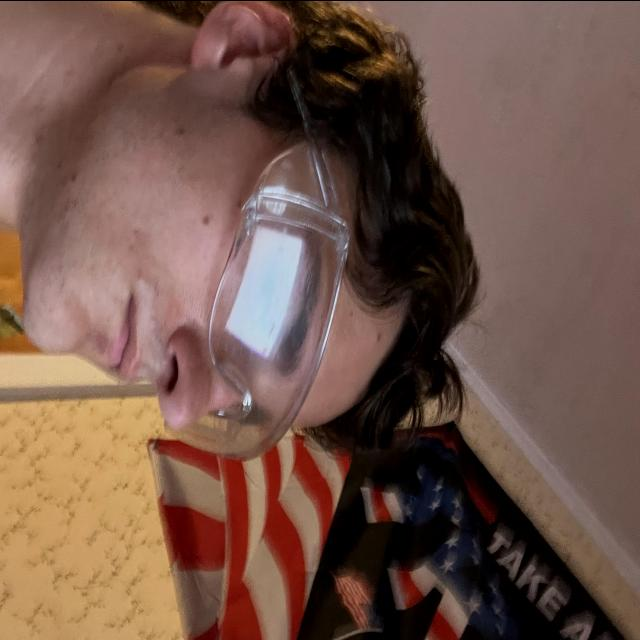Safety Glasses: (166, 59, 356, 464)
